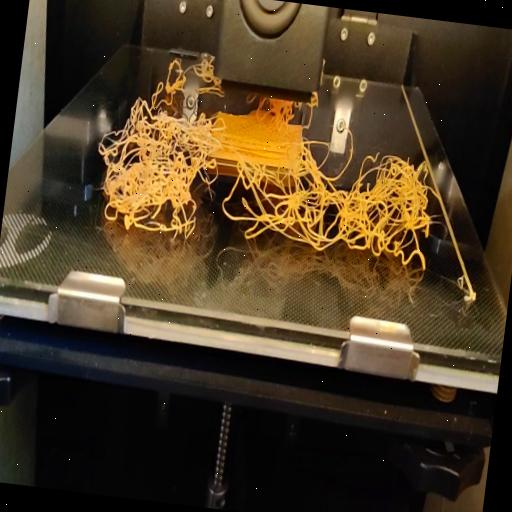spaghetti: (86, 76, 444, 282), (166, 50, 218, 92)
